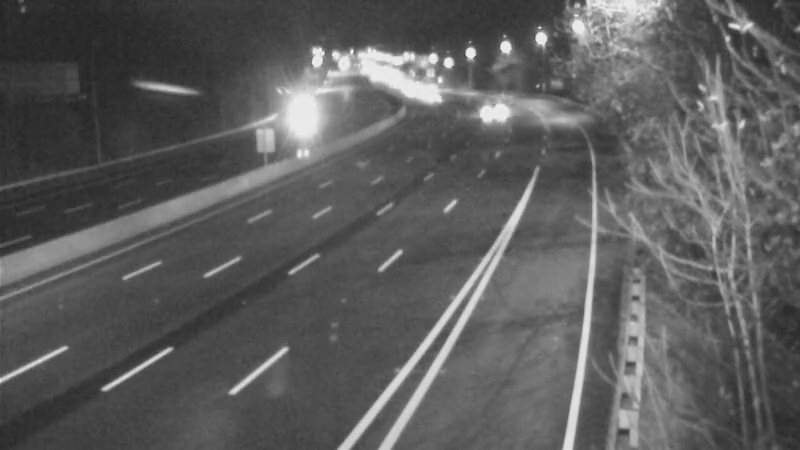vehicle: (406, 76, 456, 126), (467, 85, 517, 135), (276, 95, 326, 145)
